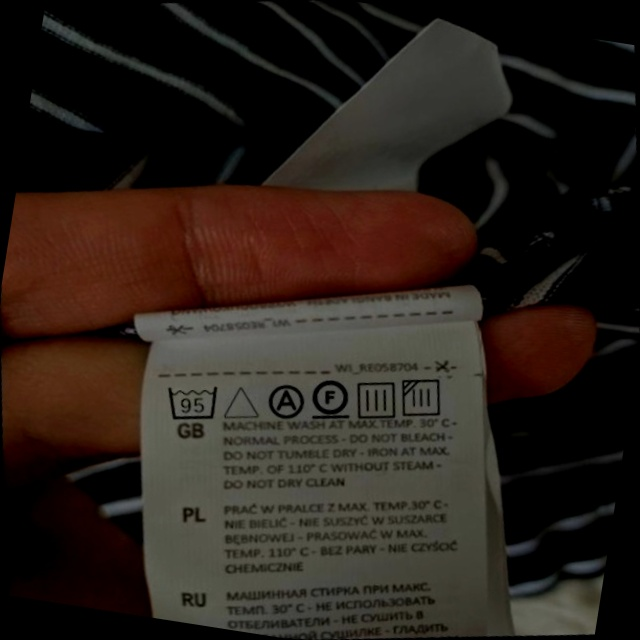95C: (160, 374, 227, 429)
bleach: (218, 376, 264, 427)
drip_dry: (349, 372, 404, 426)
drip_dry_in_shade: (395, 370, 453, 426)
dry_clean: (261, 377, 310, 425)
dry_clean_petrol_only: (305, 369, 357, 426)
